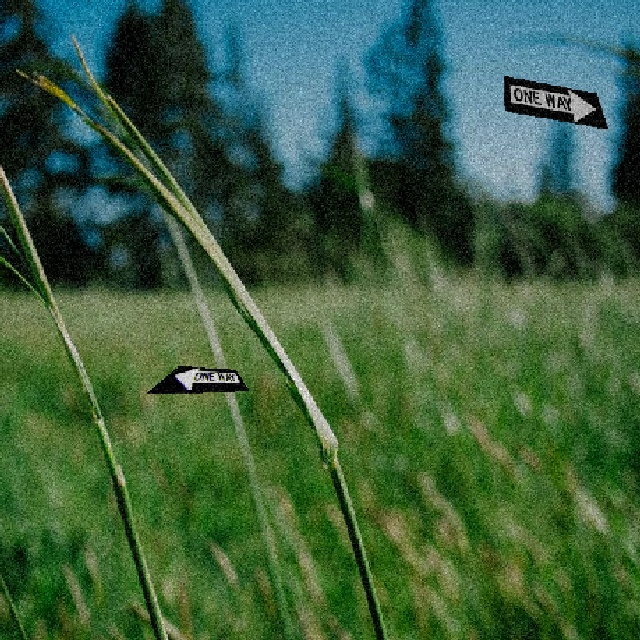ONE_WAY_ left: (143, 364, 248, 393)
ONE_WAY_ right: (502, 74, 607, 128)
